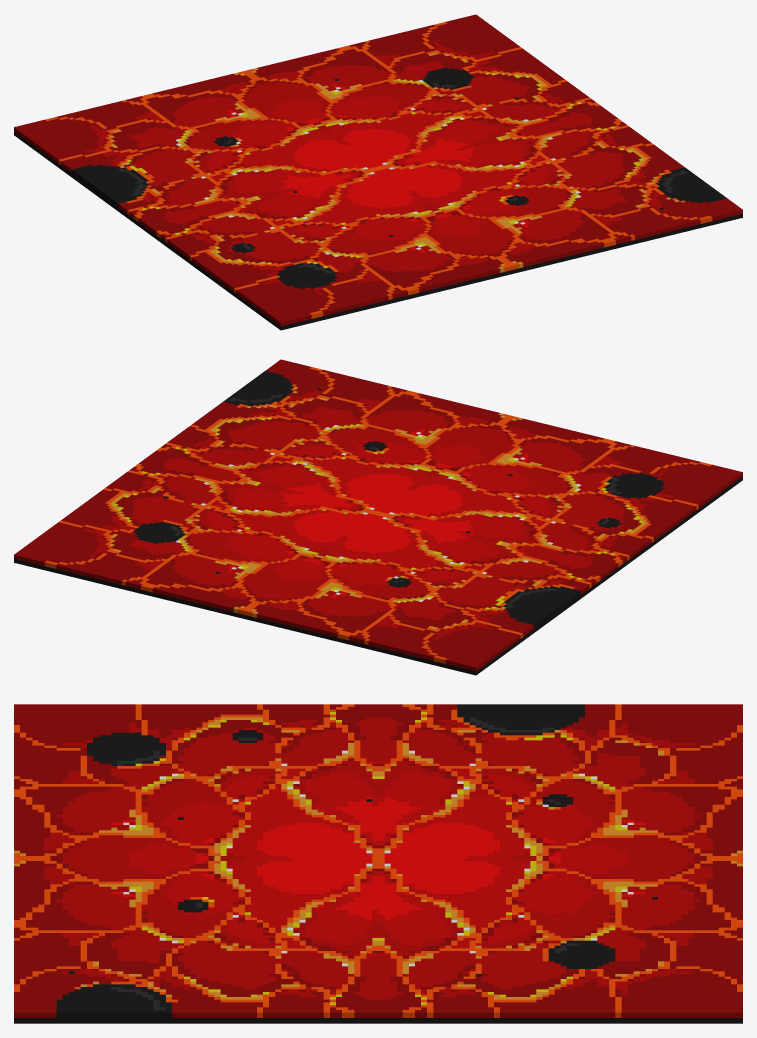
Rendered from lava_floorr.obj.
3 views of the same model, one above another, from view 1: azimuth 30°, elevation 25°; view 2: azimuth 150°, elevation 25°; view 3: azimuth 270°, elevation 25° (orthographic). The views are drawn at different scales.
Parts seen in each view (by area): view 1: lava_floorr; view 2: lava_floorr; view 3: lava_floorr.
Boxes of the visible parts, x1,y1,x2,y2 form: lava_floorr: (14, 14, 742, 330); lava_floorr: (14, 359, 742, 675); lava_floorr: (14, 704, 742, 1023).
Size of the model in its own units: 120 by 2 by 120.
Materials: 1 (1 with a texture image).
